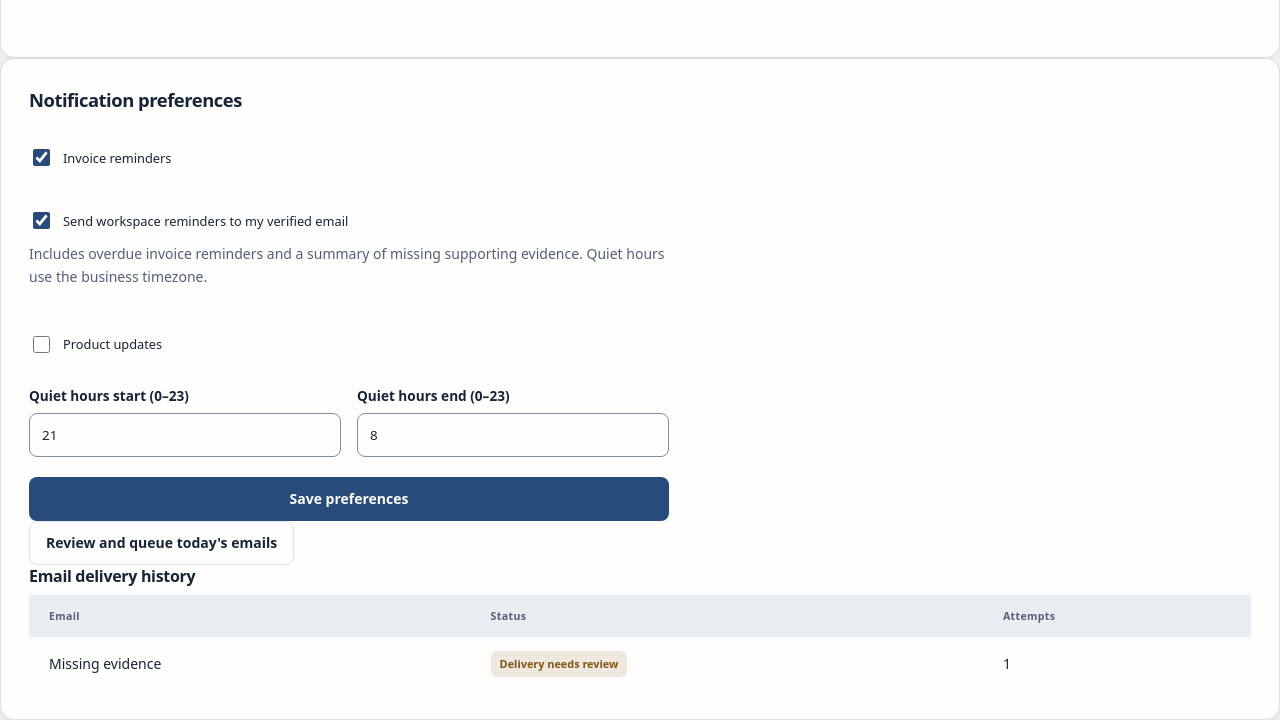
Phase 6 screen journeys with isolated API doubles › queues opted-in workspace email and identifies an uncertain delivery
(page scrolled)
Check: the text "Delivery needs review" is shown, box [491,650,627,677]
Click the button "Review and queue today's emails": (162, 542) [29,520,294,564]
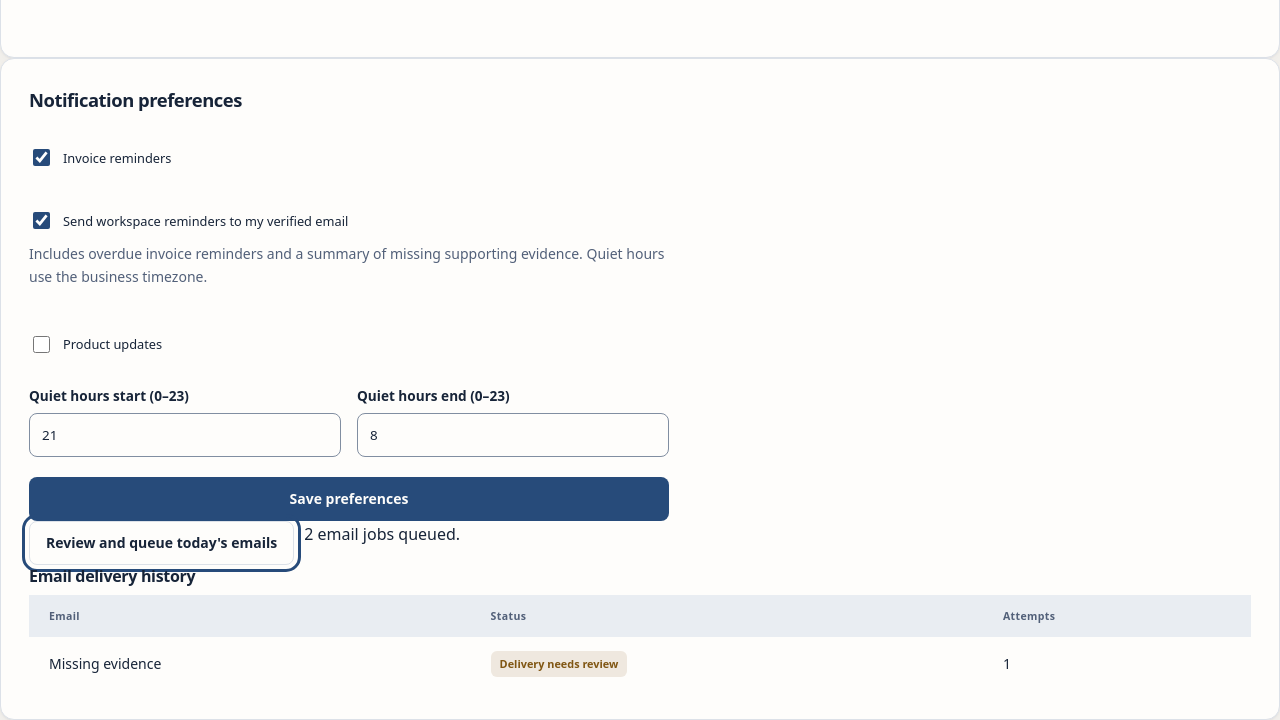
Check: the text "2 email jobs queued." is shown, box [304,521,460,548]
